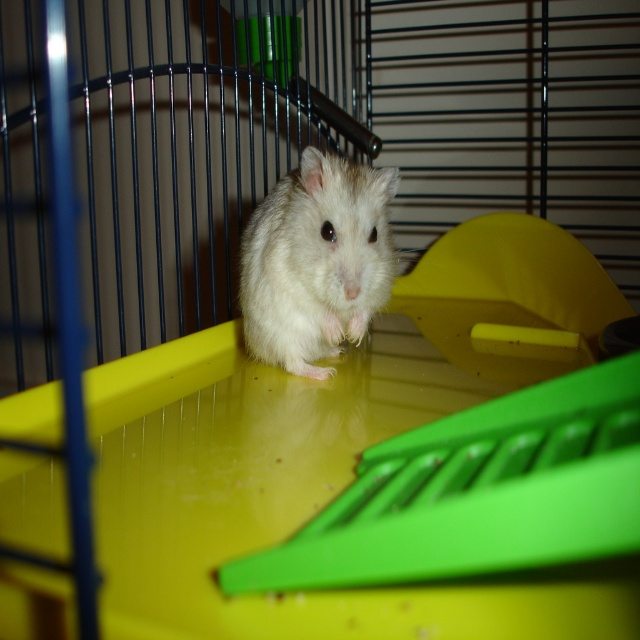Hamster: (242, 148, 418, 383)
